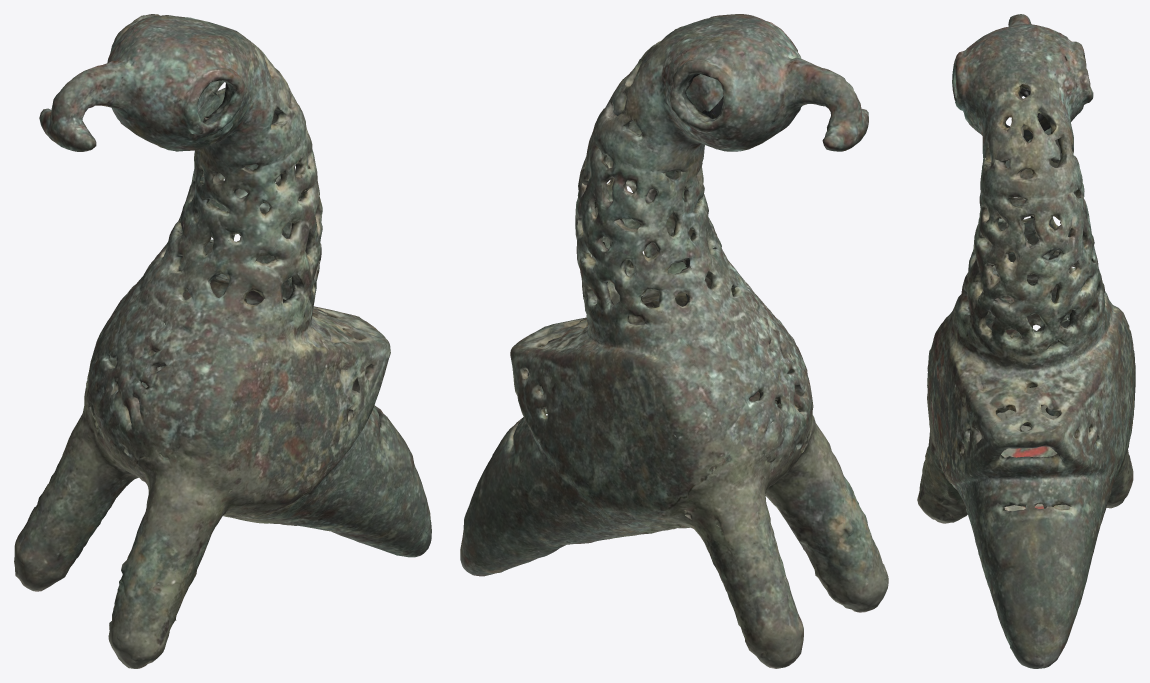
Rendered from rauchergefass_in_vogelgestalt.glb.
The picture shows the model from 3 angles, left to right: view 1: azimuth 30°, elevation 25°; view 2: azimuth 150°, elevation 25°; view 3: azimuth 270°, elevation 25°; orthographic projection. The views are drawn at different scales.
Size of the model in its own units: 1.39 by 2.06 by 0.7711.
1 material, 1 textured.
